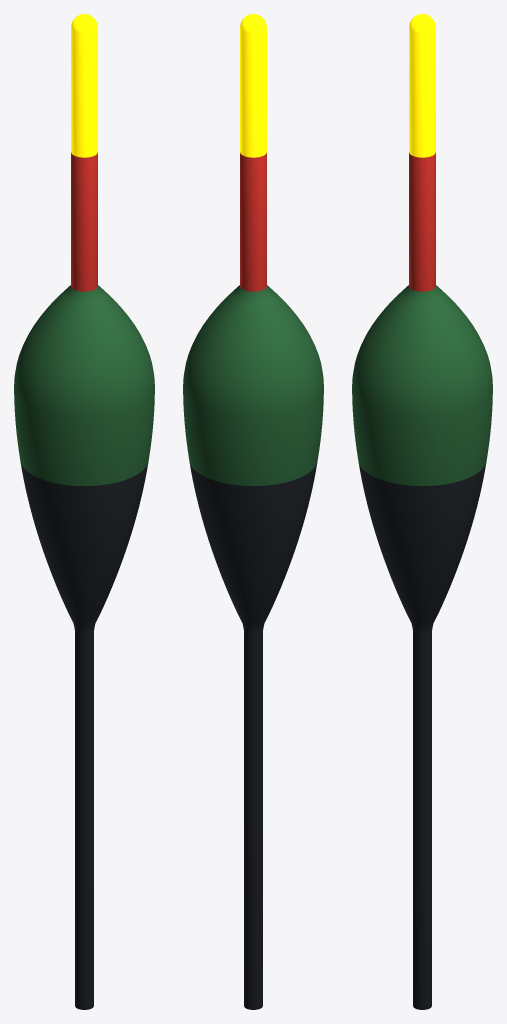
Rendered from volga.glb.
3 renders of one model, left to right at view 1: azimuth 30°, elevation 25°; view 2: azimuth 150°, elevation 25°; view 3: azimuth 330°, elevation 25°, orthographic.
Visible parts, largest first — view 1: volga; view 2: volga; view 3: volga.
Boxes of the visible parts, bbox=[...] form: volga: bbox=[14, 14, 154, 1009]; volga: bbox=[183, 14, 323, 1009]; volga: bbox=[352, 14, 492, 1009].
Bounding box in the file's own units: 0.021 × 0.163 × 0.021.
